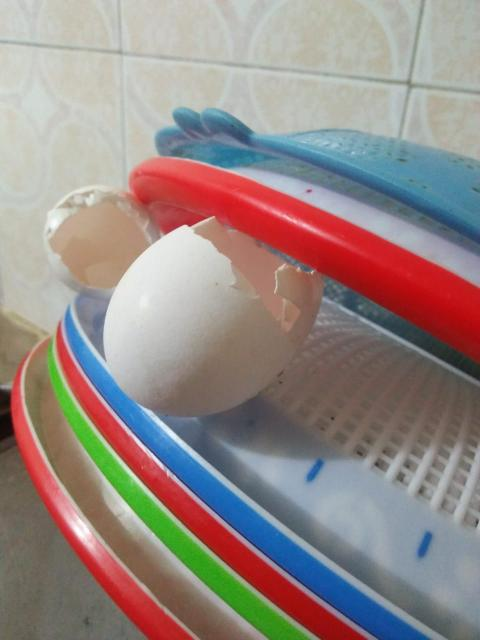Roto: (103, 212, 324, 420), (43, 186, 162, 296)
